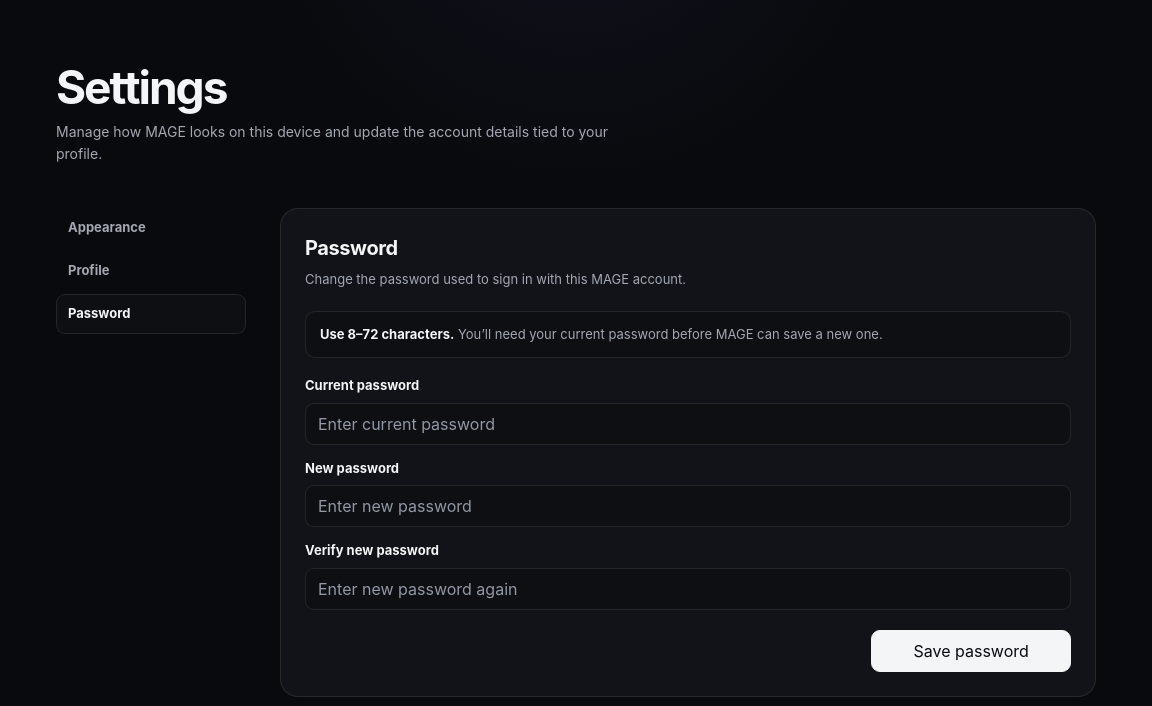
SettingsPage › changes a local account password through the authenticated backend flow
Step 1. Type "current-secret" into the password field labelled "Current password" → (688, 424), box [305,403,1071,445]
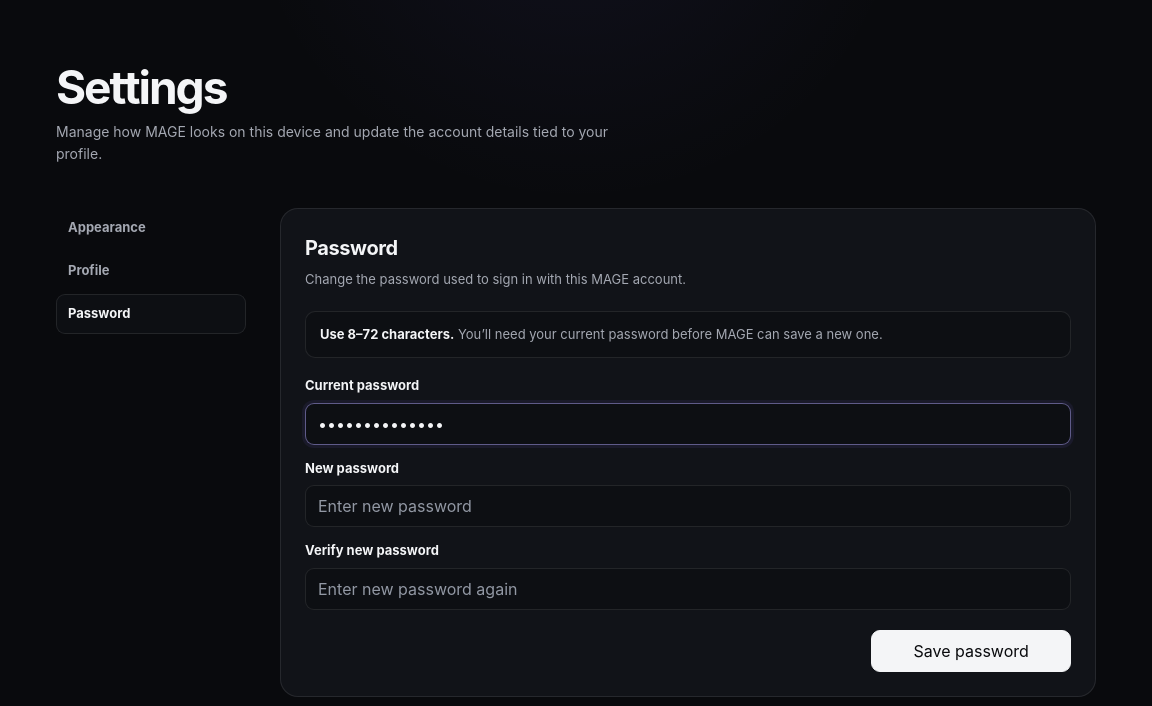
Step 2. Type "new-secret-value" into the password field labelled "New password" → (688, 506), box [305,485,1071,527]
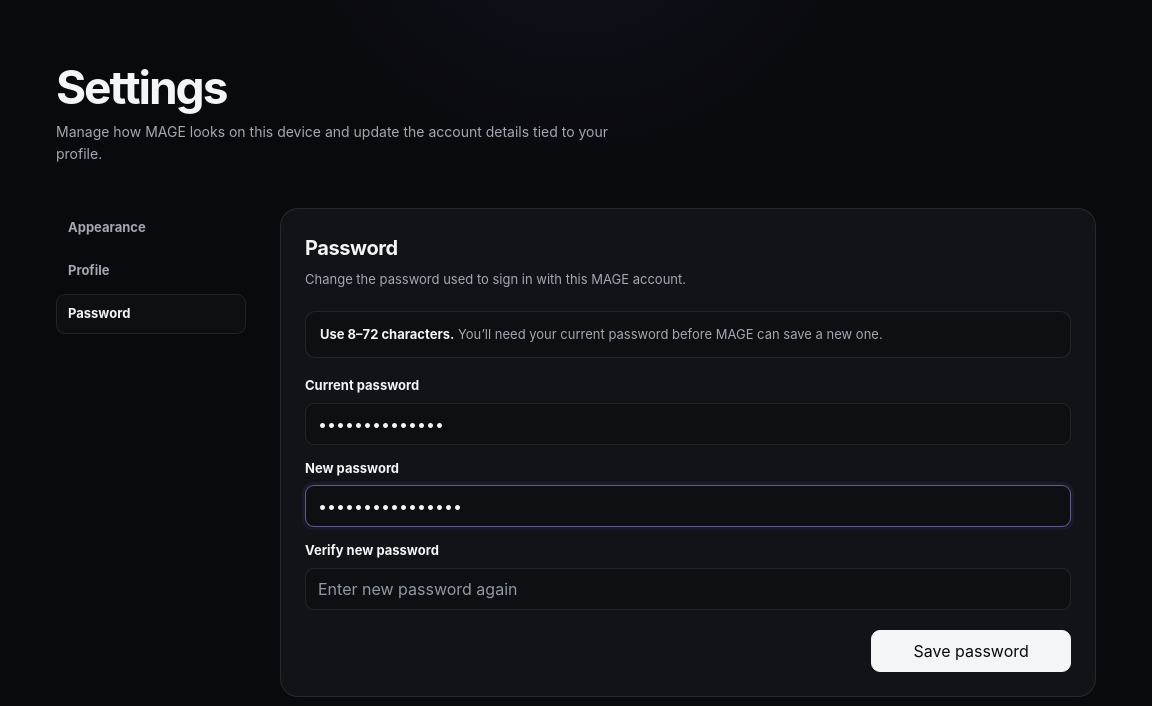
Step 3. Type "new-secret-value" into the password field labelled "Verify new password" → (688, 589), box [305,568,1071,610]
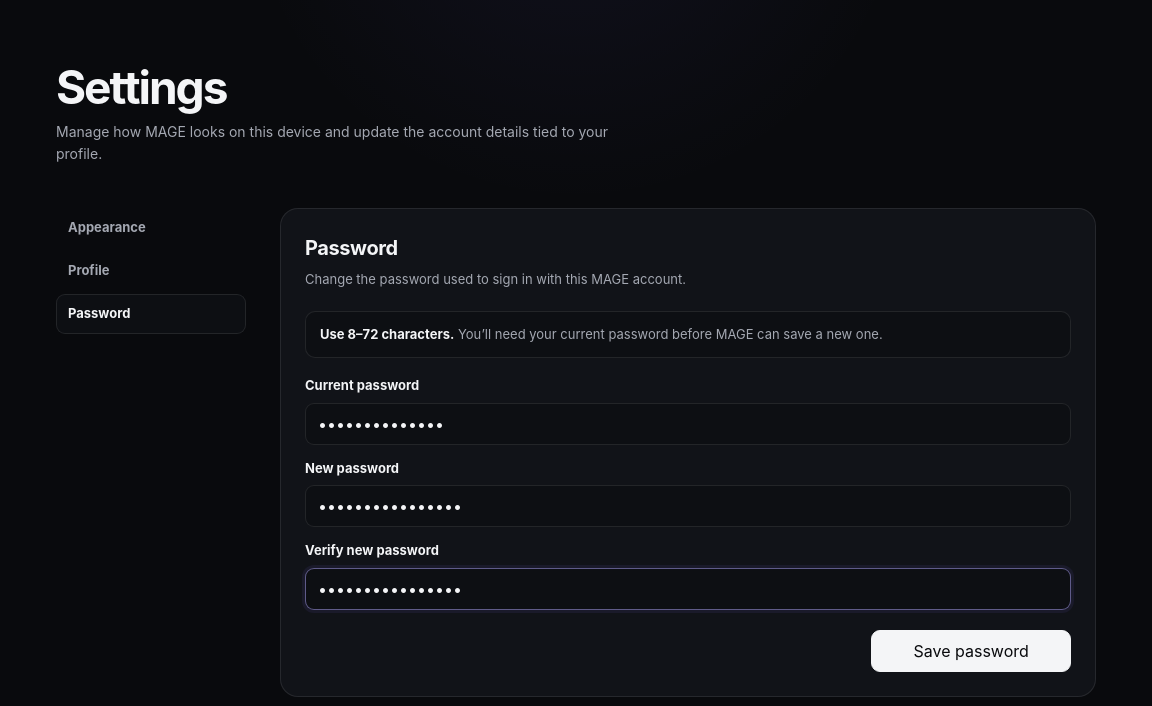
Step 4. Click the button "Save password" → (971, 651), box [871,630,1071,672]
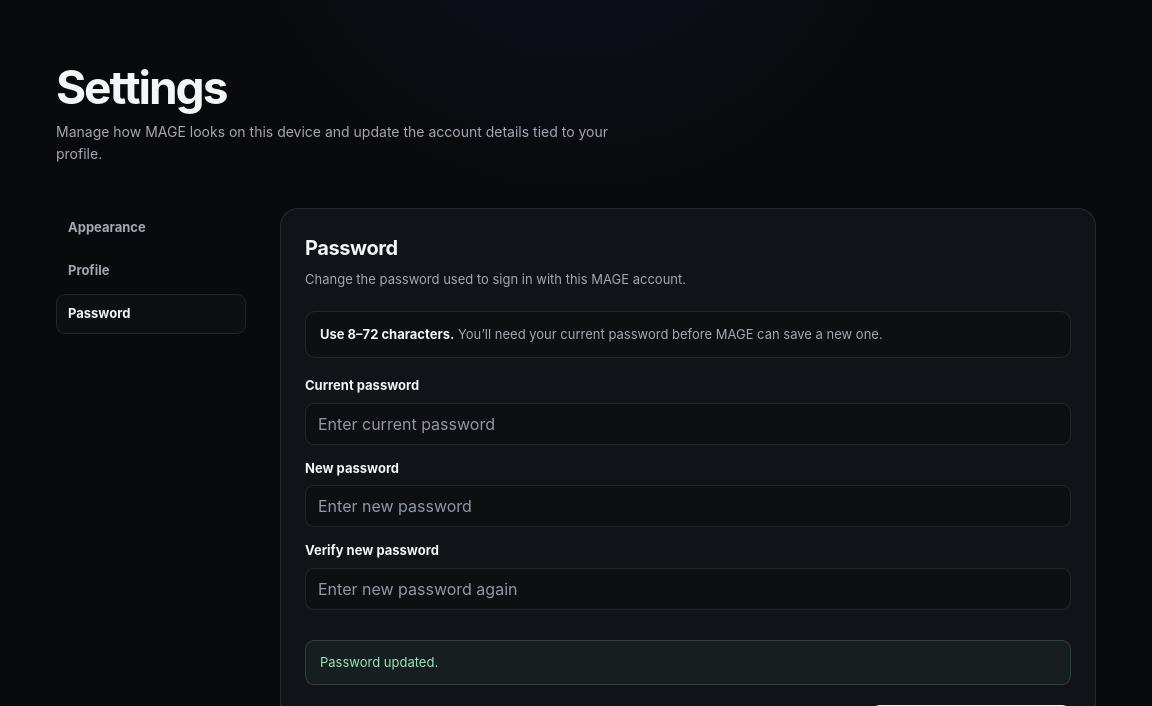
Check: the text "Password updated." is shown, box [305,640,1071,685]
Check: the password field labelled "Current password" is empty, box [305,403,1071,445]
Check: the password field labelled "New password" is empty, box [305,485,1071,527]
